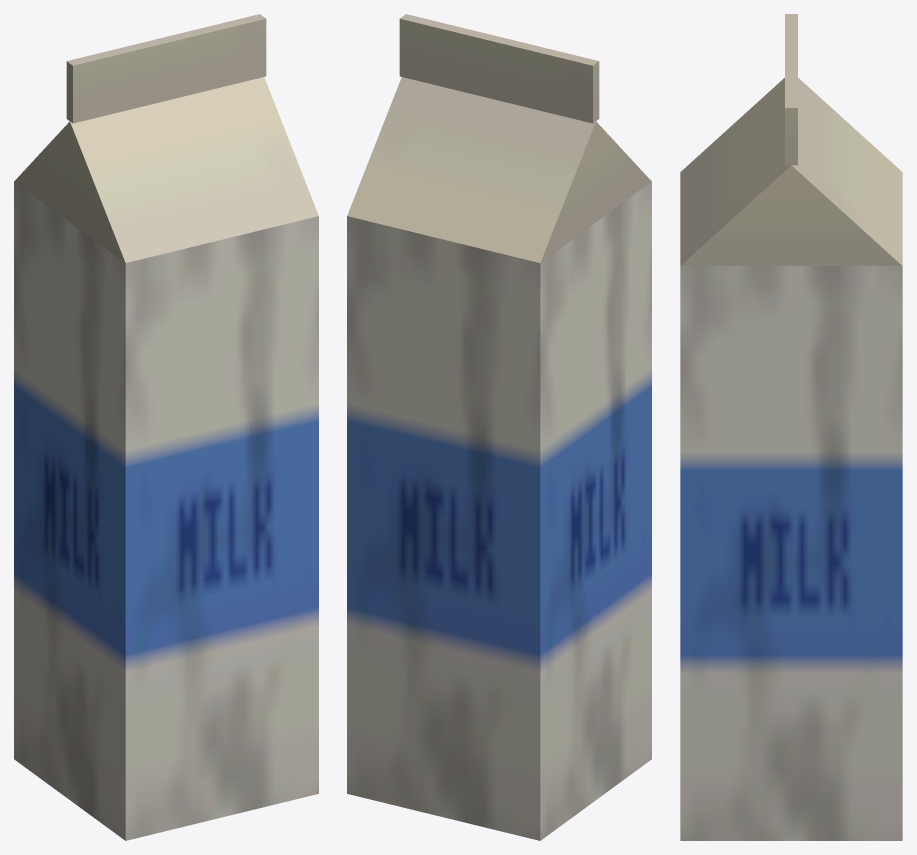
Rendered from milk.obj.
The picture shows the model from 3 angles, left to right: view 1: azimuth 30°, elevation 25°; view 2: azimuth 150°, elevation 25°; view 3: azimuth 270°, elevation 25°; orthographic projection.
Parts seen in each view (by area): view 1: milk; view 2: milk; view 3: milk.
Part boxes in pixels (x1,y1,x2,y2): milk: [14, 14, 318, 840]; milk: [347, 14, 651, 840]; milk: [680, 14, 902, 840].
Bounding box in the file's own units: 0.07 × 0.255 × 0.07.
1 material, 1 textured.
